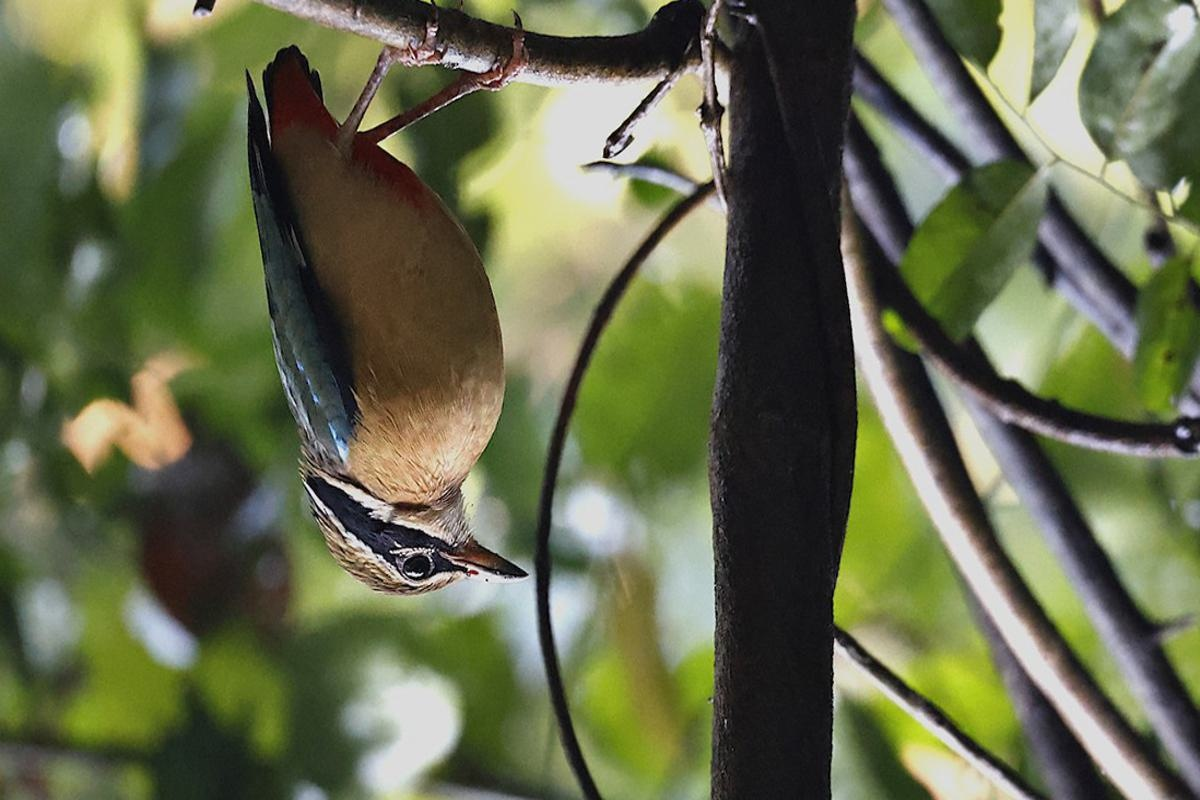pitta: (189, 24, 575, 638)
